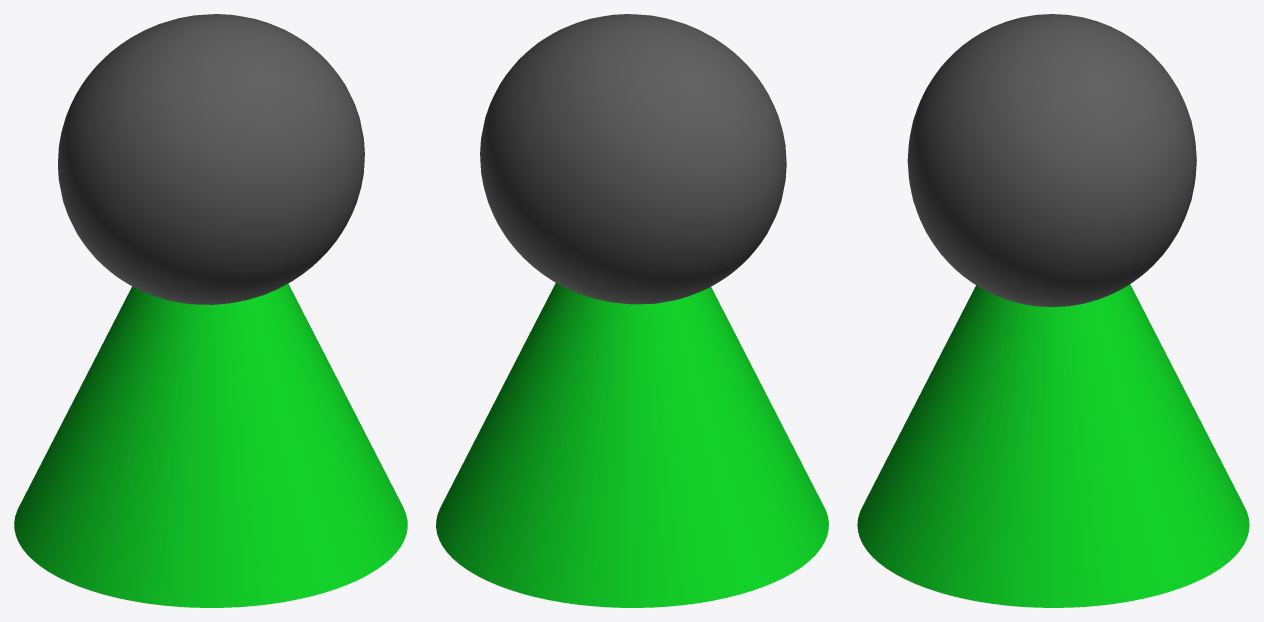
Rendered from pice2.fbx.
3 renders of one model, left to right at view 1: azimuth 30°, elevation 25°; view 2: azimuth 150°, elevation 25°; view 3: azimuth 270°, elevation 25°, orthographic.
Visible parts, largest first — view 1: root (×2); view 2: root (×2); view 3: root (×2).
Part boxes in pixels (x1,y1,x2,y2): root (×2): [14, 14, 407, 607]; root (×2): [436, 14, 828, 607]; root (×2): [857, 14, 1249, 607].
Bounding box in the file's own units: 0.2138 × 0.298 × 0.2138.
2 materials, 2 textured.
